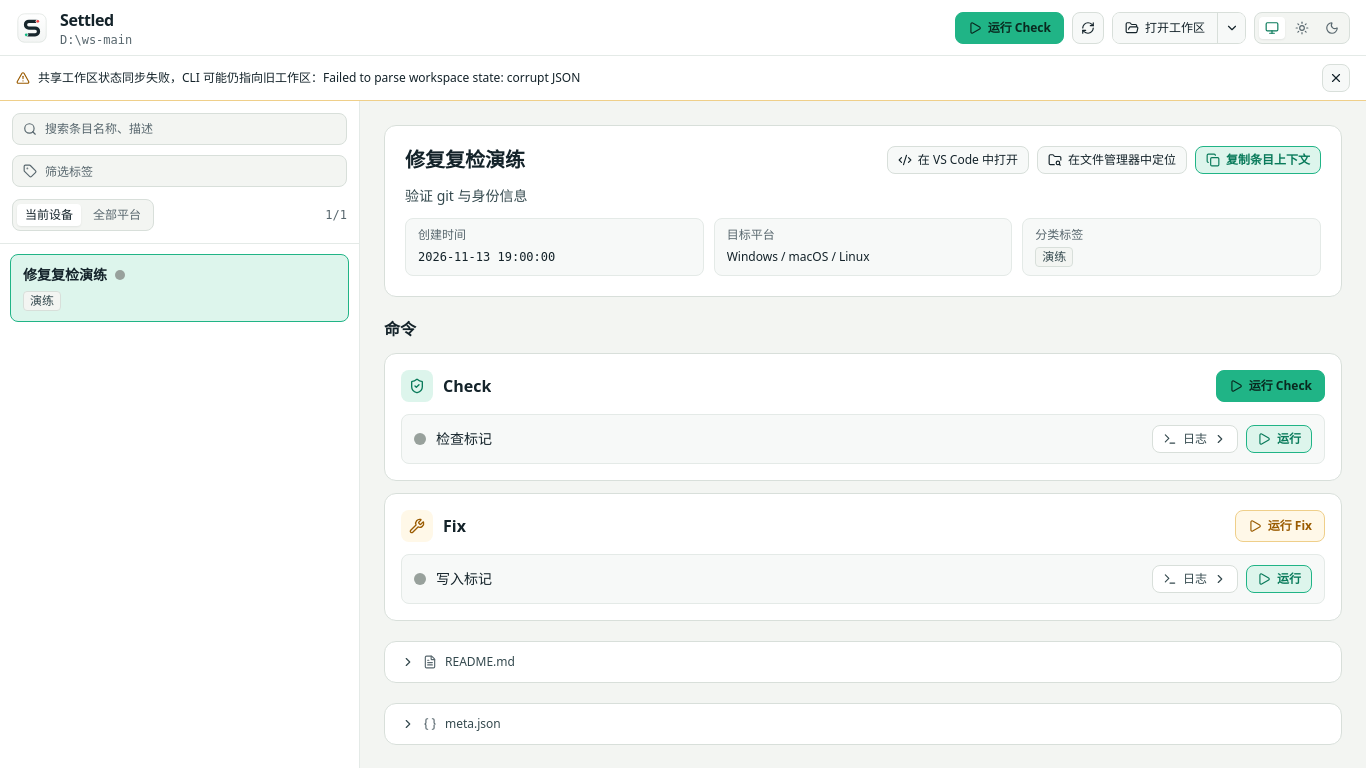
Test: App integration › displays a dismissible warning when shared workspace state sync fails and clears it on next clean switch
Check: the text "D:\\ws-main" is shown, box [60, 32, 132, 48]
Click the button "打开工作区" at (1165, 28), box [1113, 12, 1217, 42]
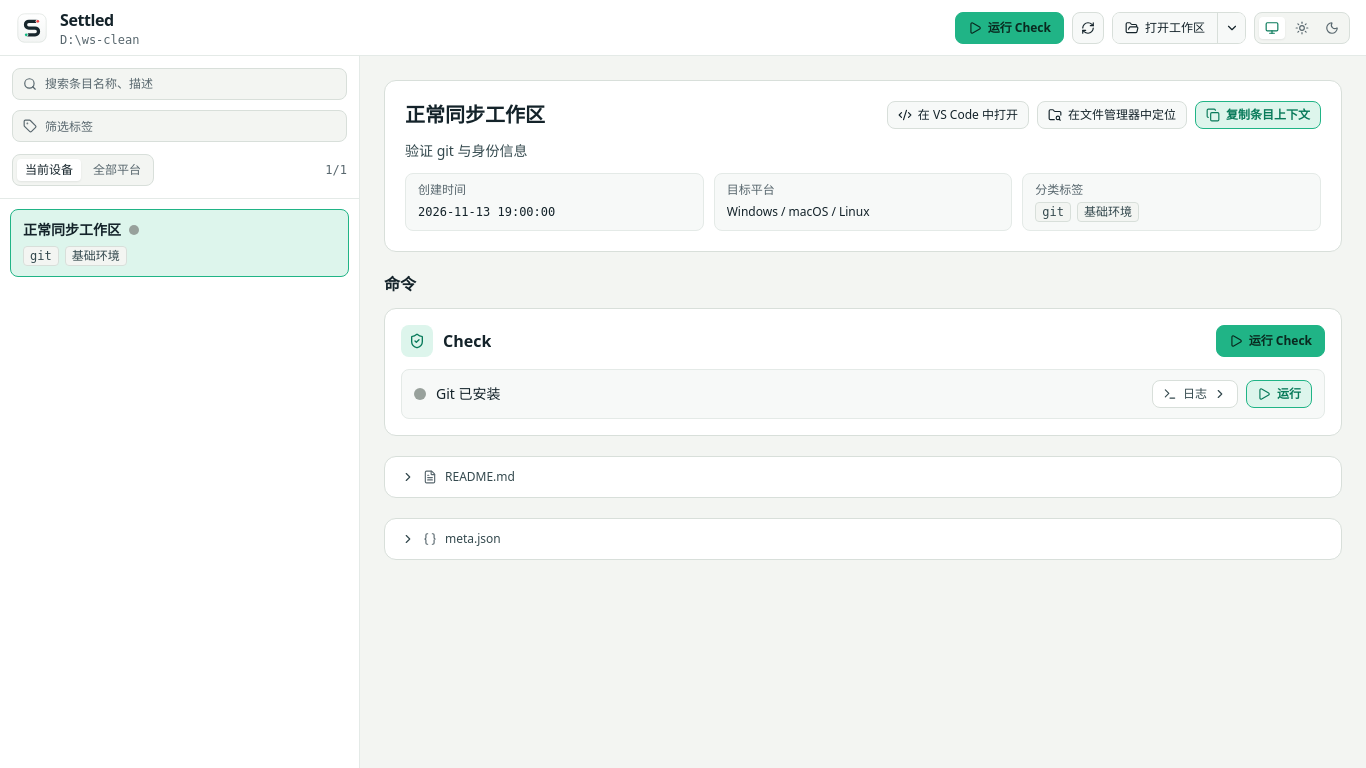
Check: the text "D:\\ws-clean" is shown, box [60, 32, 140, 48]
Check: the message "共享工作区状态同步失败，CLI 可能仍指向旧工作区：Failed to parse workspace state: corrupt JSON" is gone
